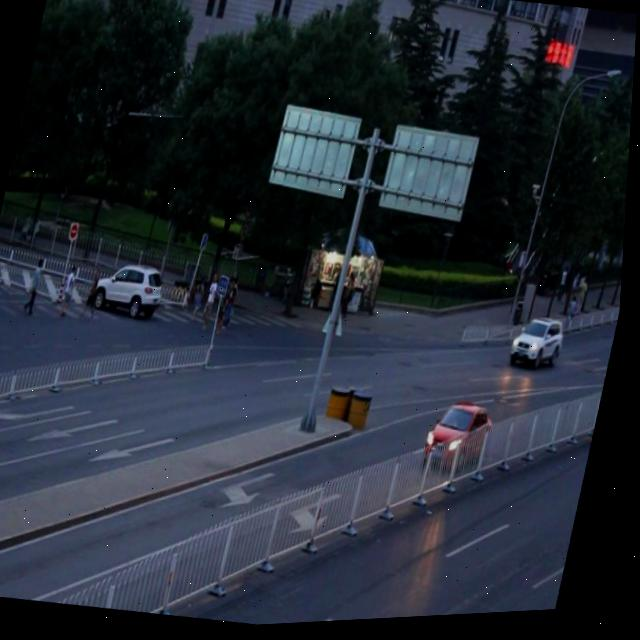car: (428, 400, 503, 474), (93, 258, 171, 323), (511, 319, 570, 377), (0, 557, 18, 599), (542, 596, 567, 617)
